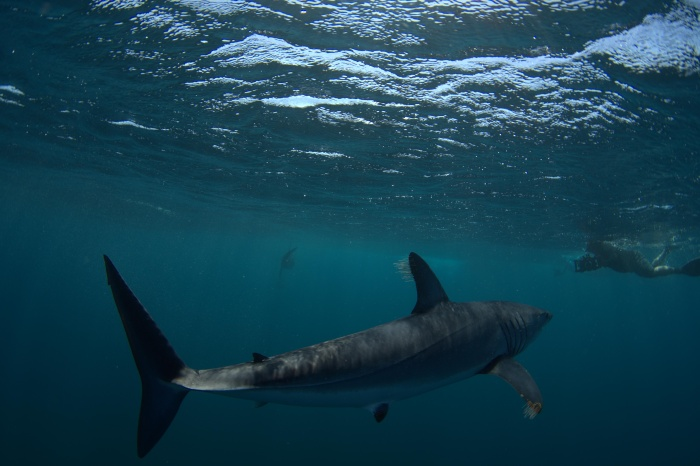Mako: (91, 238, 581, 459)
